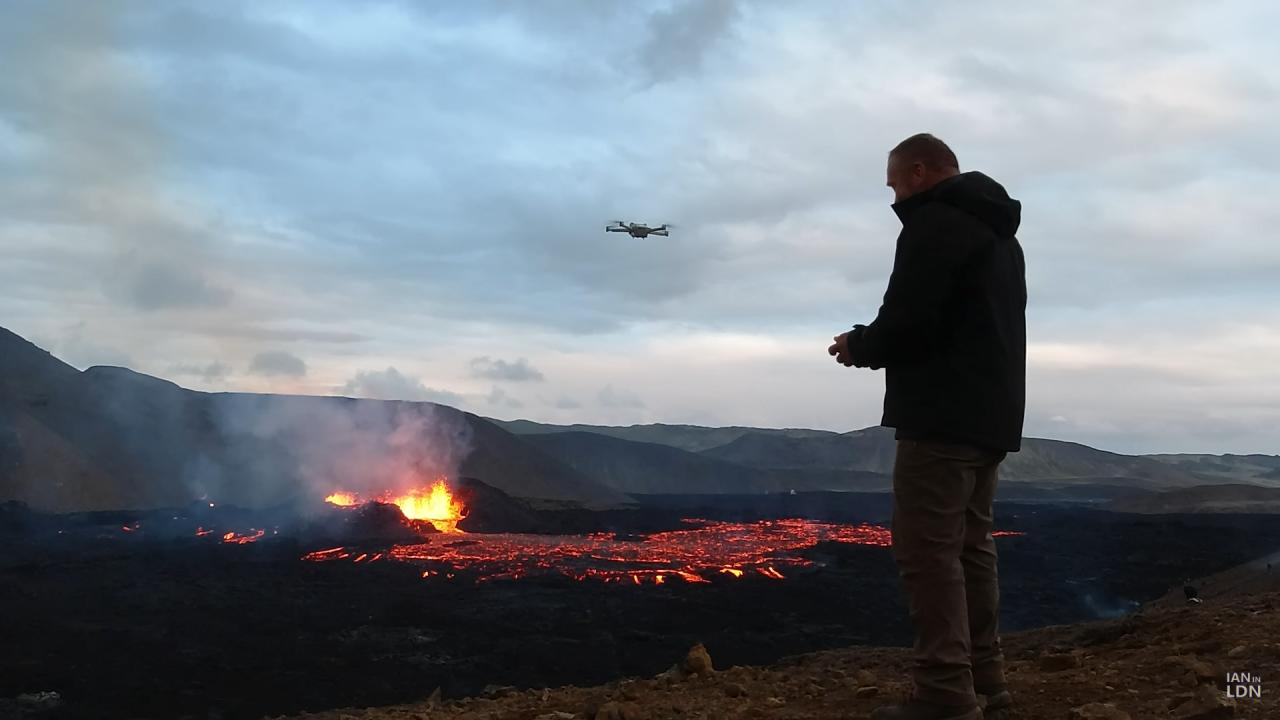Drone: (596, 210, 682, 250)
